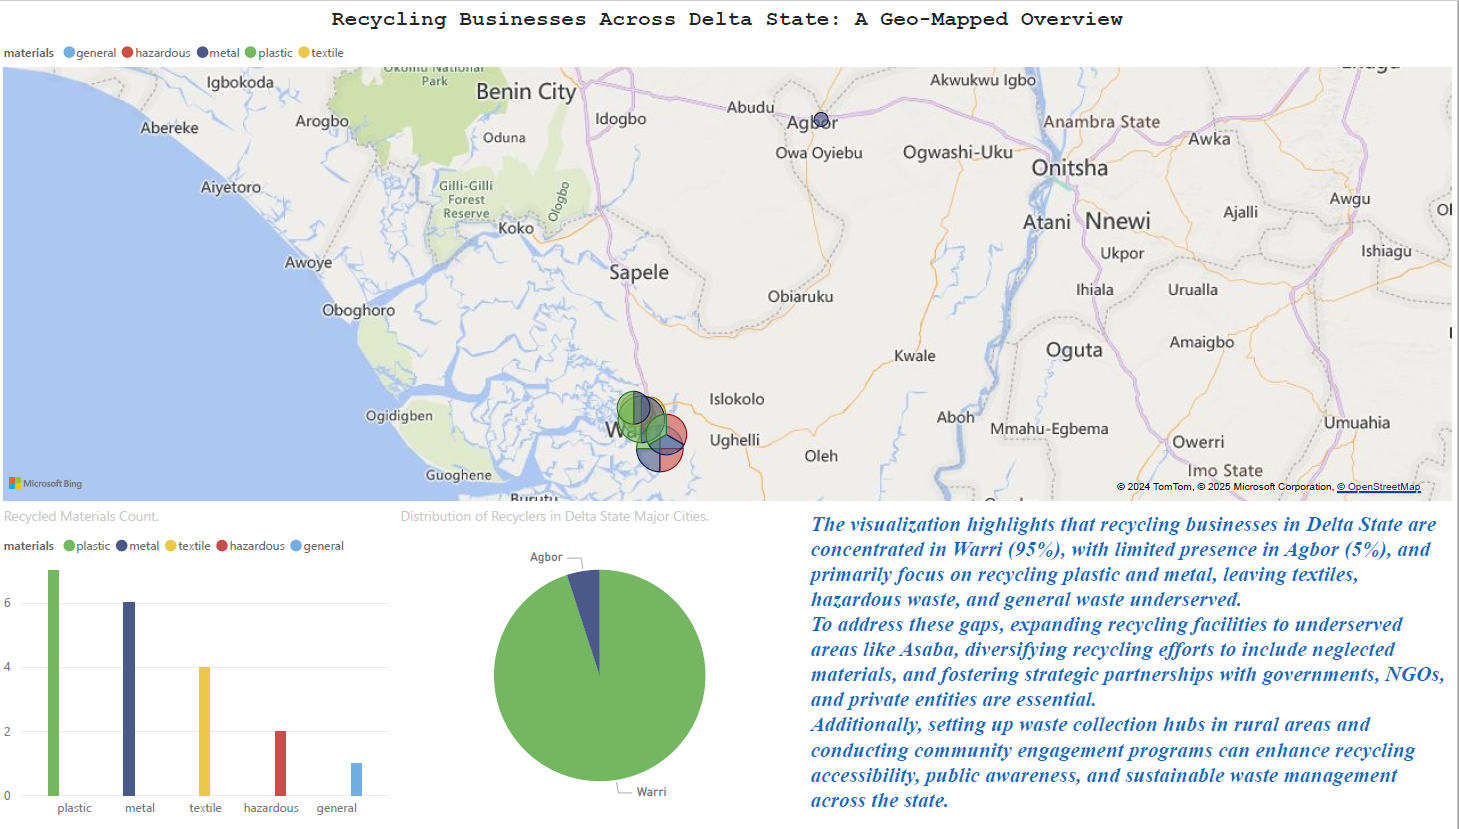

What the dashboard file says about the page in this screenshot:
{"tool":"powerbi","page":{"name":"Page 1","canvas":[1280,720],"ordinal":0},"visuals":[{"type":"map","title":"Recycling Businesses Across Delta State: A Geo-Mapped Overview","fields":{"Y":["delta_recycling_businesses.coordinates.lat"],"X":["delta_recycling_businesses.coordinates.lng"],"Series":["delta_recycling_businesses.materials"],"Size":["CountNonNull(delta_recycling_businesses.address_components.locality)"]},"box":[0,0,1280,438.3],"z":0},{"type":"clusteredColumnChart","title":"Recycled Materials Count.","fields":{"Y":["CountNonNull(delta_recycling_businesses.materials)"],"Category":["delta_recycling_businesses.materials"],"Series":["delta_recycling_businesses.materials"]},"box":[0,438.3,348.3,281.7],"z":1000},{"type":"pieChart","title":"Distribution of Recyclers in Delta State Major Cities.","fields":{"Category":["delta_recycling_businesses.address_components.locality"],"Y":["CountNonNull(delta_recycling_businesses.name)"]},"box":[348.3,438.3,360,281.7],"z":2000},{"type":"textbox","box":[708.3,438.3,571.7,281.7],"z":3000}]}

Visuals, with their boxes in screenshot pixels (x1, y1, x2, y2), scaled from the page's 1280x720 canvas onto the 1459x829 screenshot:
"Recycling Businesses Across Delta State: A Geo-Mapped Overview" map: crop(0, 0, 1458, 505)
"Recycled Materials Count." clusteredColumnChart: crop(0, 505, 397, 828)
"Distribution of Recyclers in Delta State Major Cities." pieChart: crop(397, 505, 807, 828)
textbox: crop(807, 505, 1458, 828)
